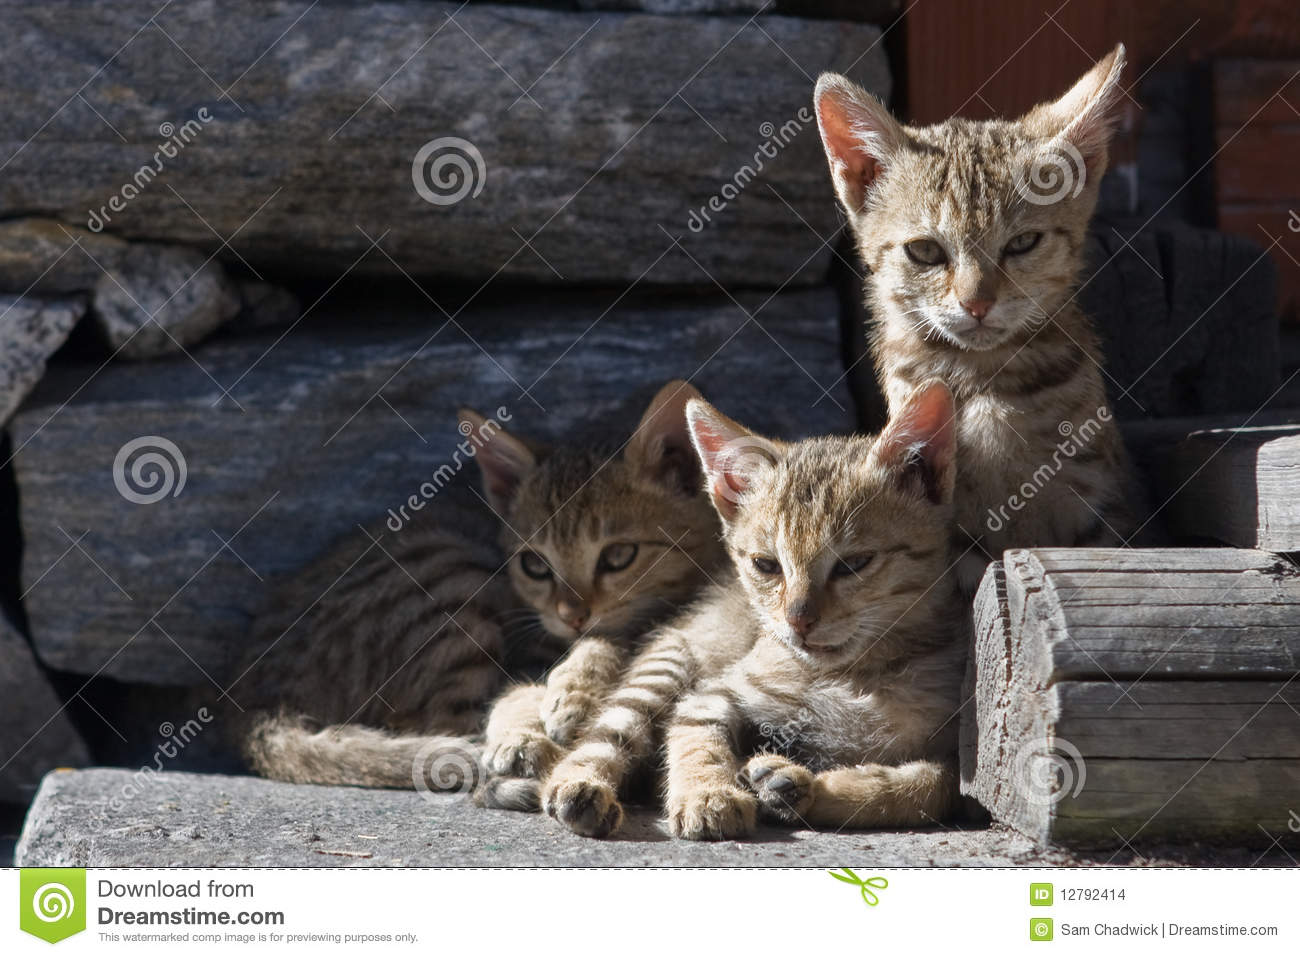cat: (197, 379, 735, 802), (816, 39, 1159, 577), (646, 368, 975, 853)
